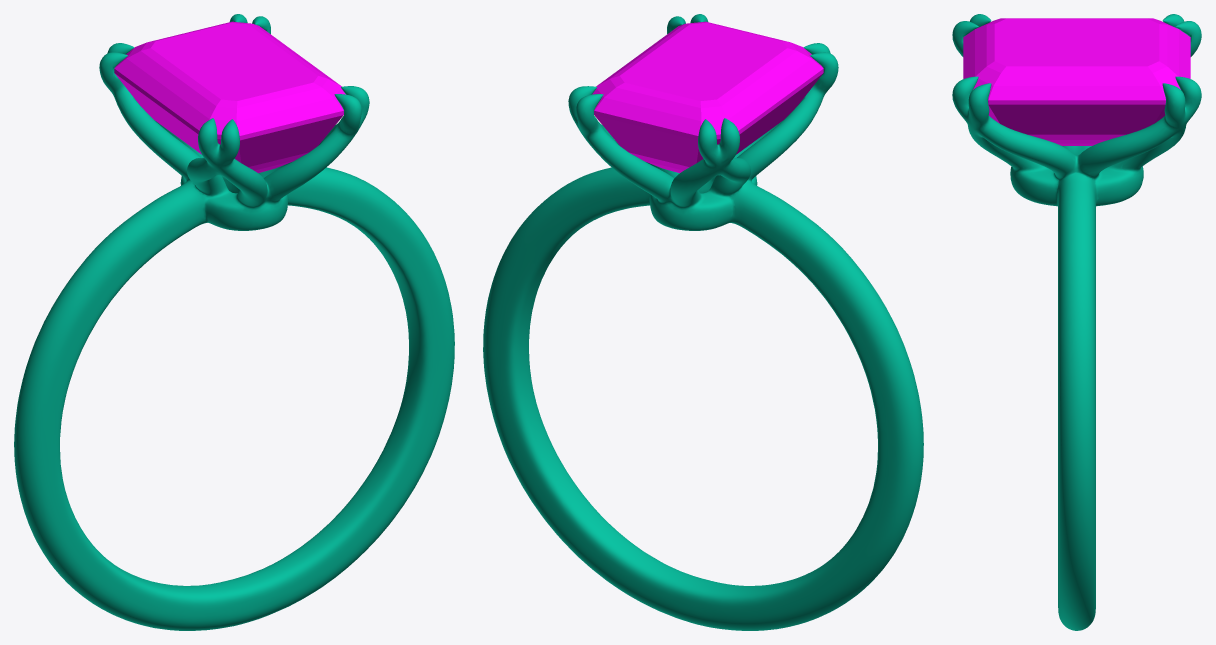
File: BE1389_EM_200ct_RENDER.glb
3 views of the same model, side by side, from view 1: azimuth 30°, elevation 25°; view 2: azimuth 150°, elevation 25°; view 3: azimuth 270°, elevation 25° (orthographic).
Parts seen in each view (by area): view 1: Metal 01, CS_Diamond_Emerald; view 2: Metal 01, CS_Diamond_Emerald; view 3: Metal 01, CS_Diamond_Emerald.
Part boxes in pixels (x1,y1,x2,y2): Metal 01: (14, 14, 454, 630); CS_Diamond_Emerald: (114, 21, 345, 173); Metal 01: (483, 14, 923, 630); CS_Diamond_Emerald: (592, 21, 823, 173); Metal 01: (952, 14, 1201, 630); CS_Diamond_Emerald: (963, 18, 1190, 145).
Bounding box in the file's own units: 20.06 × 24.7 × 9.88.
